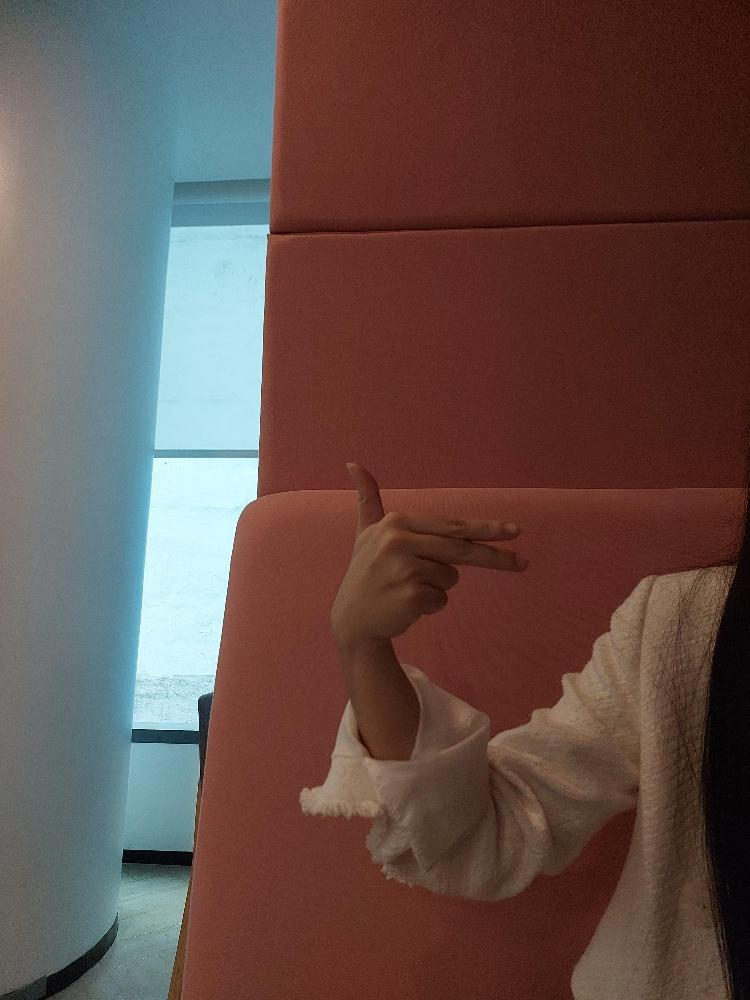g: (328, 457, 529, 644)
